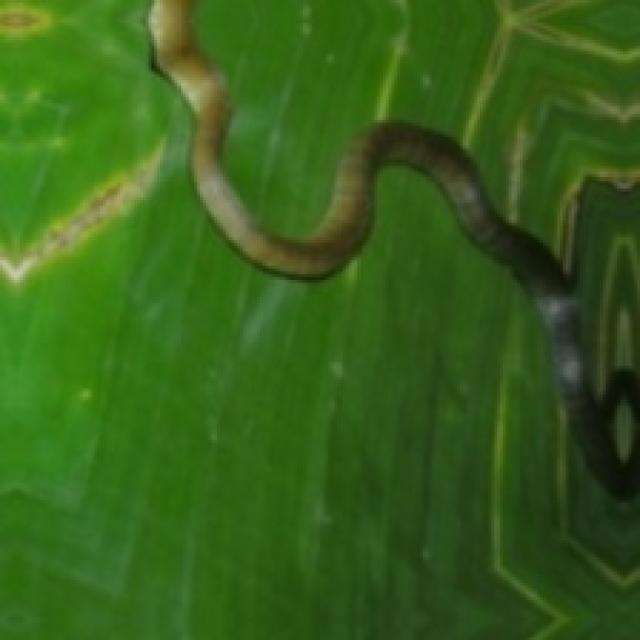reddish rat snake: (149, 0, 637, 494)
